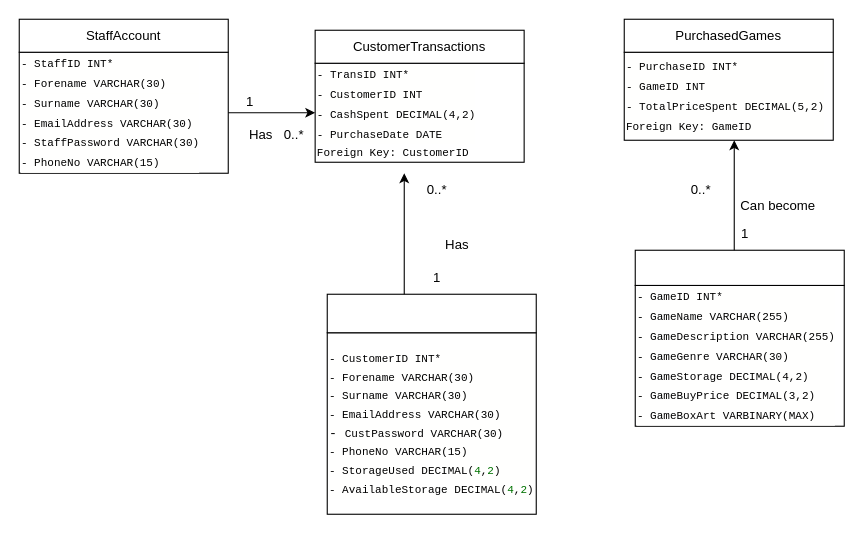
The diagram is 864 pixels wide and 534 high, and some of its shapes have lost their labels. The centre of each missing label's shape, as x and y in pixels:
"CustomerAccount" goes at (x=431, y=313).
"VideoGames" goes at (x=739, y=267).
